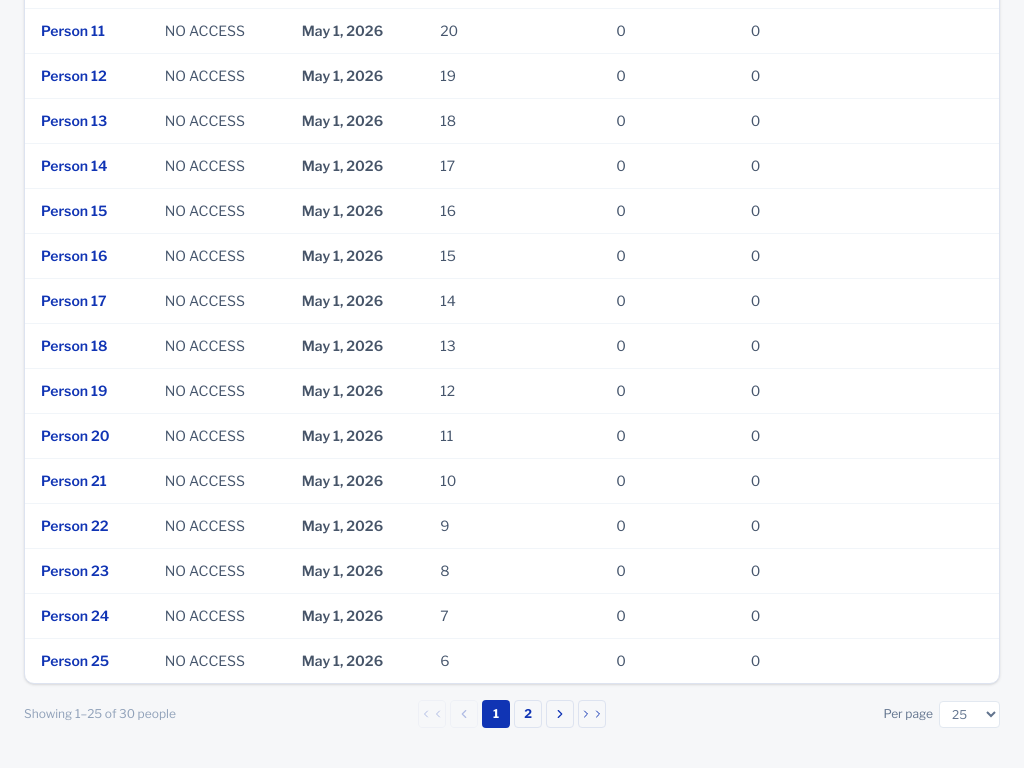
Test: UsageTable pagination › moves to the next page
(page scrolled)
Click the button named "Next page".
click(560, 714)  # box [546,700,574,728]
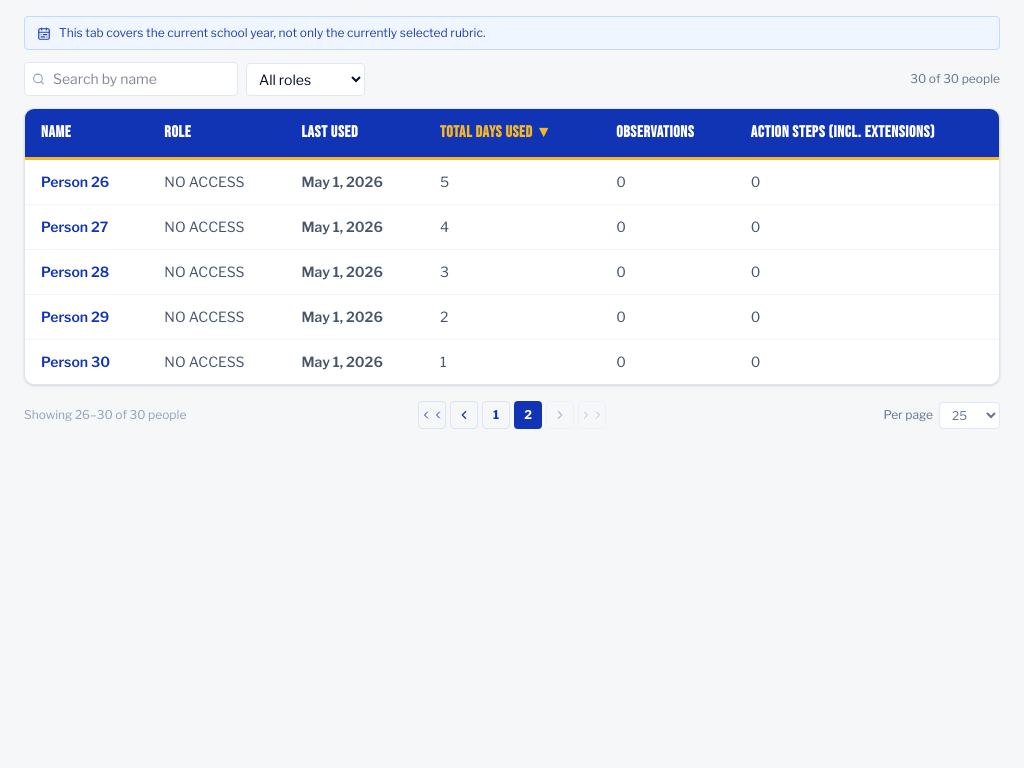
expect the text "Person 26" is shown: met, box [25,160,148,204]
expect the text "Showing 26–30 of 30 people" is shown: met, box [24,407,186,422]
